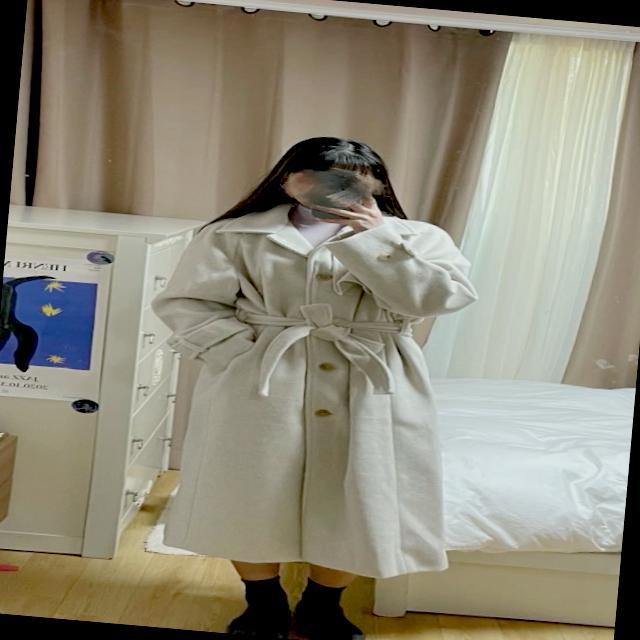coat: (134, 192, 484, 584)
